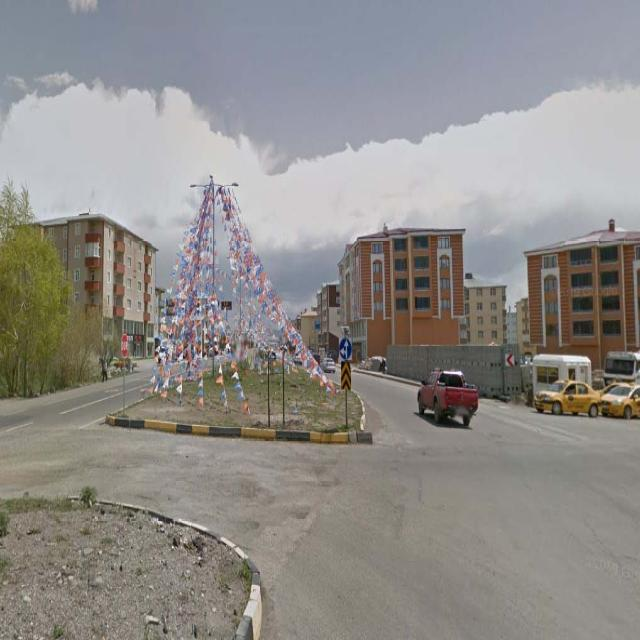dur: (120, 336, 128, 357)
ilerisol: (339, 338, 351, 360)
